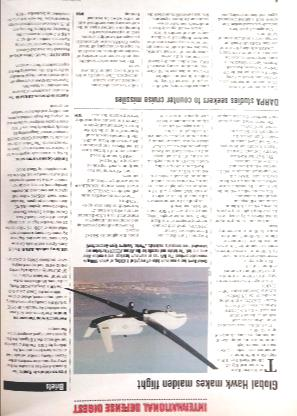P3: (64, 288, 218, 370)
